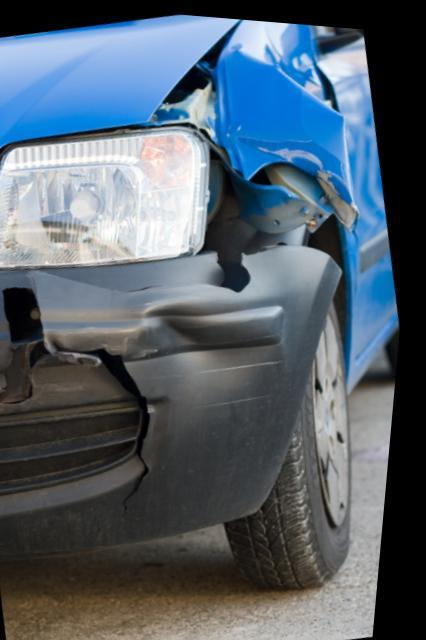crack: (3, 285, 161, 518), (126, 249, 258, 290)
dent: (224, 49, 352, 177), (151, 297, 271, 382)
dislocated part: (142, 16, 348, 254)
